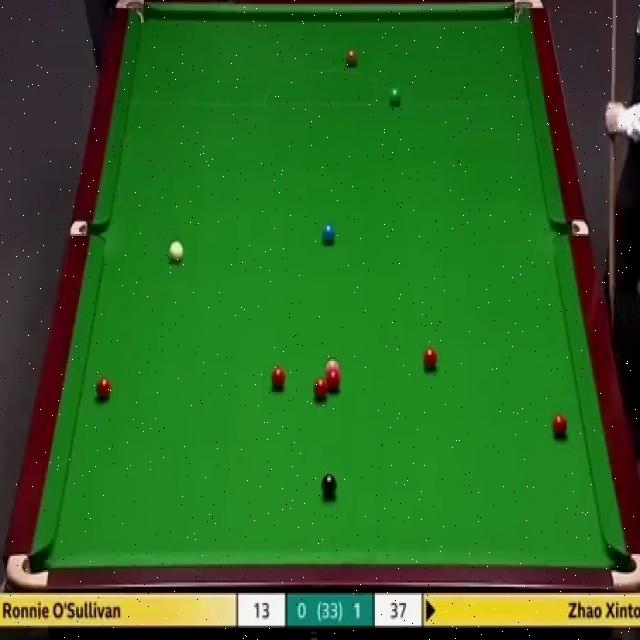black-ball: (321, 472, 338, 498)
blue-ball: (322, 222, 336, 244)
brown-ball: (345, 48, 358, 68)
green-ball: (388, 85, 401, 106)
pink-ball: (324, 359, 341, 374)
red-ball: (96, 375, 112, 402), (422, 348, 438, 372), (324, 371, 342, 392), (552, 416, 569, 438), (270, 367, 286, 390), (313, 379, 329, 400)
white-ball: (168, 238, 186, 264)
